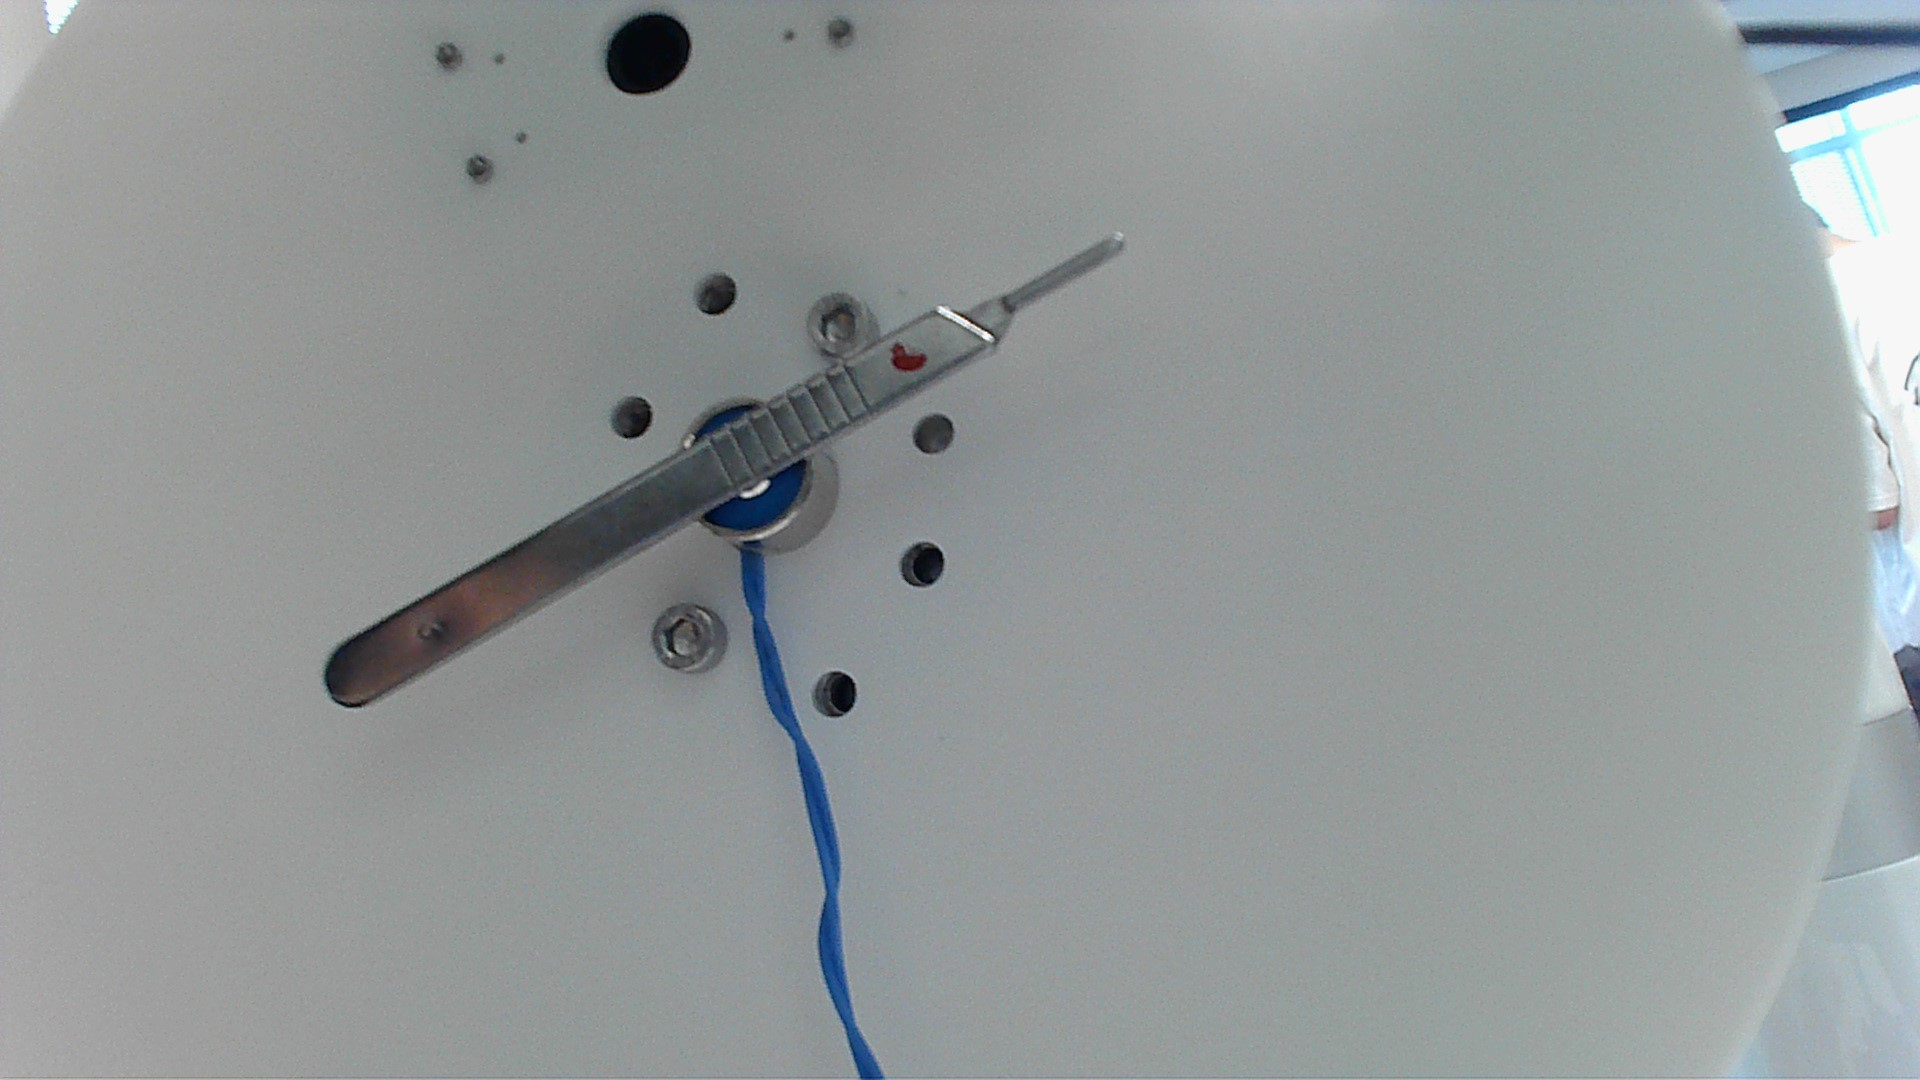Stain: (883, 336, 943, 380)
